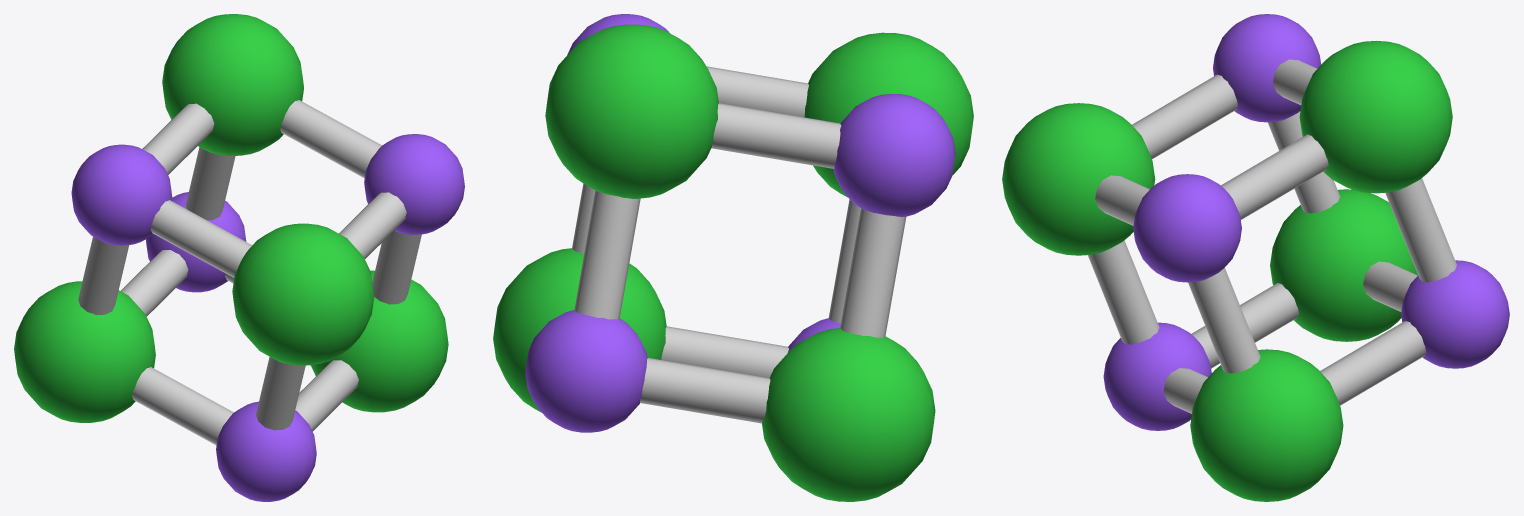
Rendered from NaCl.fbx.
The picture shows the model from 3 angles, left to right: view 1: azimuth 30°, elevation 25°; view 2: azimuth 150°, elevation 25°; view 3: azimuth 270°, elevation 25°; orthographic projection. The views are drawn at different scales.
Parts seen in each view (by area): view 1: NaCl; view 2: NaCl; view 3: NaCl.
Part boxes in pixels (x1,y1,x2,y2): NaCl: (14,14,464,501); NaCl: (493,14,973,501); NaCl: (1002,14,1509,501).
Bounding box in the file's own units: 0.1282 × 0.1247 × 0.1386.
